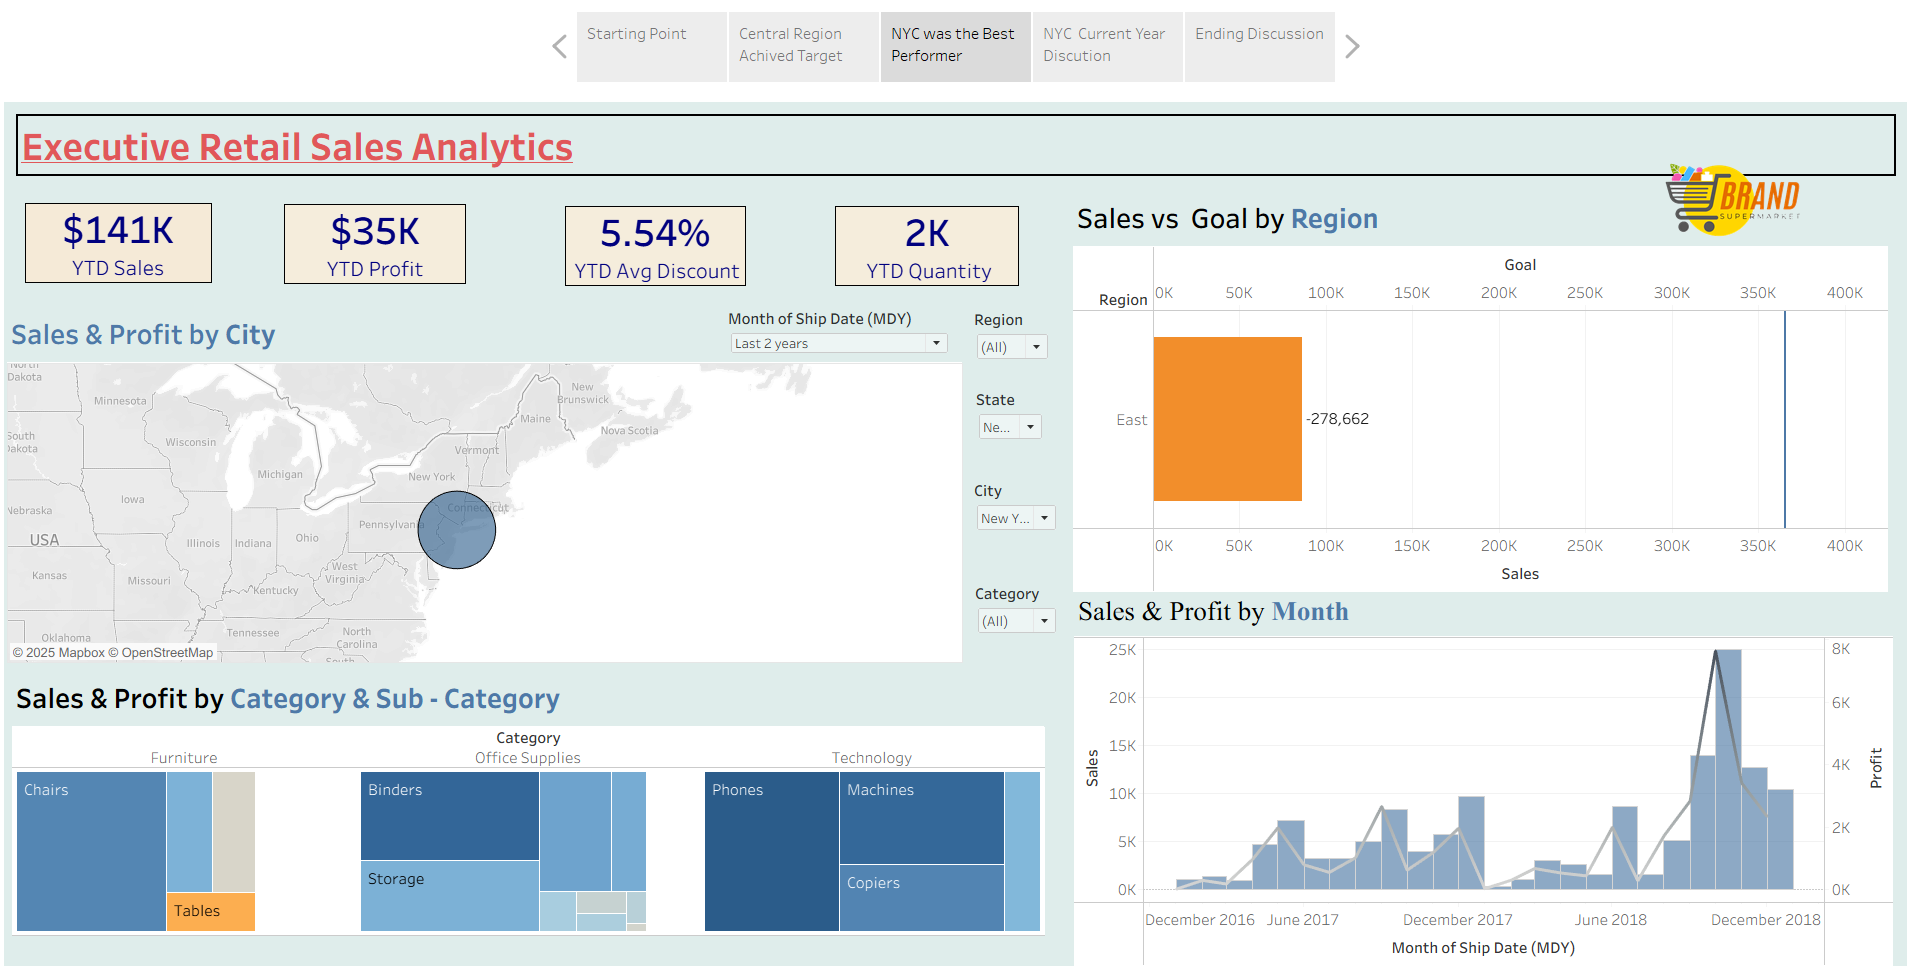

Layout of this report page (visuals, bound fields, positions):
{"tool":"tableau","page":{"name":"Dashboard 1","canvas":[1000,1000],"units":"permille","ordinal":0},"visuals":[{"type":"title","box":[4.8,10,990.3,87.4]},{"type":"image","param":"Image/supermarket-logo-template-with-shopping-cart_23-[number redacted].png","box":[826.8,13.7,163.6,194.8]},{"type":"worksheet","title":"Sales vs  Goal by Region","mark":"Automatic","rows":["Region"],"cols":["Sales","Goal"],"box":[561.3,106.1,428.5,453.2]},{"type":"worksheet","title":"Sheet 6","mark":"Automatic","box":[10.9,114.9,113.5,112.4]},{"type":"worksheet","title":"Sheet 6 (2)","mark":"Automatic","box":[147.2,116.1,111,103.6]},{"type":"worksheet","title":"YTD Avg Discound","mark":"Automatic","box":[294.5,118.6,109.8,101.1]},{"type":"worksheet","title":"Sheet 6 (3)","mark":"Automatic","box":[436.3,118.6,112.9,107.4]},{"type":"filter","title":"Sales & Profit by Month","param":"[federated.0hnb2jl033wxgv19xz3st11ub5jo].[tmn:Ship Date (MDY):qk]","box":[380.2,234.7,117.1,99.9]},{"type":"filter","title":"Sales vs  Goal by Region","param":"[federated.0hnb2jl033wxgv19xz3st11ub5jo].[none:Region:nk]","box":[509.4,236,40.4,79.9]},{"type":"worksheet","title":"Sales & Profit by City","mark":"Automatic","box":[1.8,238.5,502.1,402]},{"type":"filter","title":"Sales & Profit by City","param":"[federated.0hnb2jl033wxgv19xz3st11ub5jo].[none:State:nk]","box":[510.6,327.1,36.2,81.2]},{"type":"filter","title":"Sales & Profit by City","param":"[federated.0hnb2jl033wxgv19xz3st11ub5jo].[none:City:nk]","box":[509.4,432,44.7,92.4]},{"type":"filter","title":"Sales & Profit by Category & Sub - Category","param":"[federated.0hnb2jl033wxgv19xz3st11ub5jo].[none:Category:nk]","box":[510,549.3,44.1,94.9]},{"type":"worksheet","title":"Sales & Profit by Month","mark":"Automatic","rows":["Sales","Profit"],"cols":["Ship Date (MDY)"],"box":[561.9,559.3,430.9,427]},{"type":"worksheet","title":"Sales & Profit by Category & Sub - Category","mark":"Automatic","cols":["Category"],"box":[4.2,654.2,542.5,329.6]}]}

Visuals, with their boxes on the dashboard's canvas, which has no fixed pixel size, in thousandths of its width and height (x1, y1, x2, y2). These are canvas units, not pixel positions in the 1907x966 screenshot, which may show the page scaled, cropped or inside an application window:
title: 5/10/995/97
image: 827/14/990/208
"Sales vs  Goal by Region" worksheet: 561/106/990/559
"Sheet 6" worksheet: 11/115/124/227
"Sheet 6 (2)" worksheet: 147/116/258/220
"YTD Avg Discound" worksheet: 294/119/404/220
"Sheet 6 (3)" worksheet: 436/119/549/226
"Sales & Profit by Month" filter: 380/235/497/335
"Sales vs  Goal by Region" filter: 509/236/550/316
"Sales & Profit by City" worksheet: 2/238/504/640
"Sales & Profit by City" filter: 511/327/547/408
"Sales & Profit by City" filter: 509/432/554/524
"Sales & Profit by Category & Sub - Category" filter: 510/549/554/644
"Sales & Profit by Month" worksheet: 562/559/993/986
"Sales & Profit by Category & Sub - Category" worksheet: 4/654/547/984
